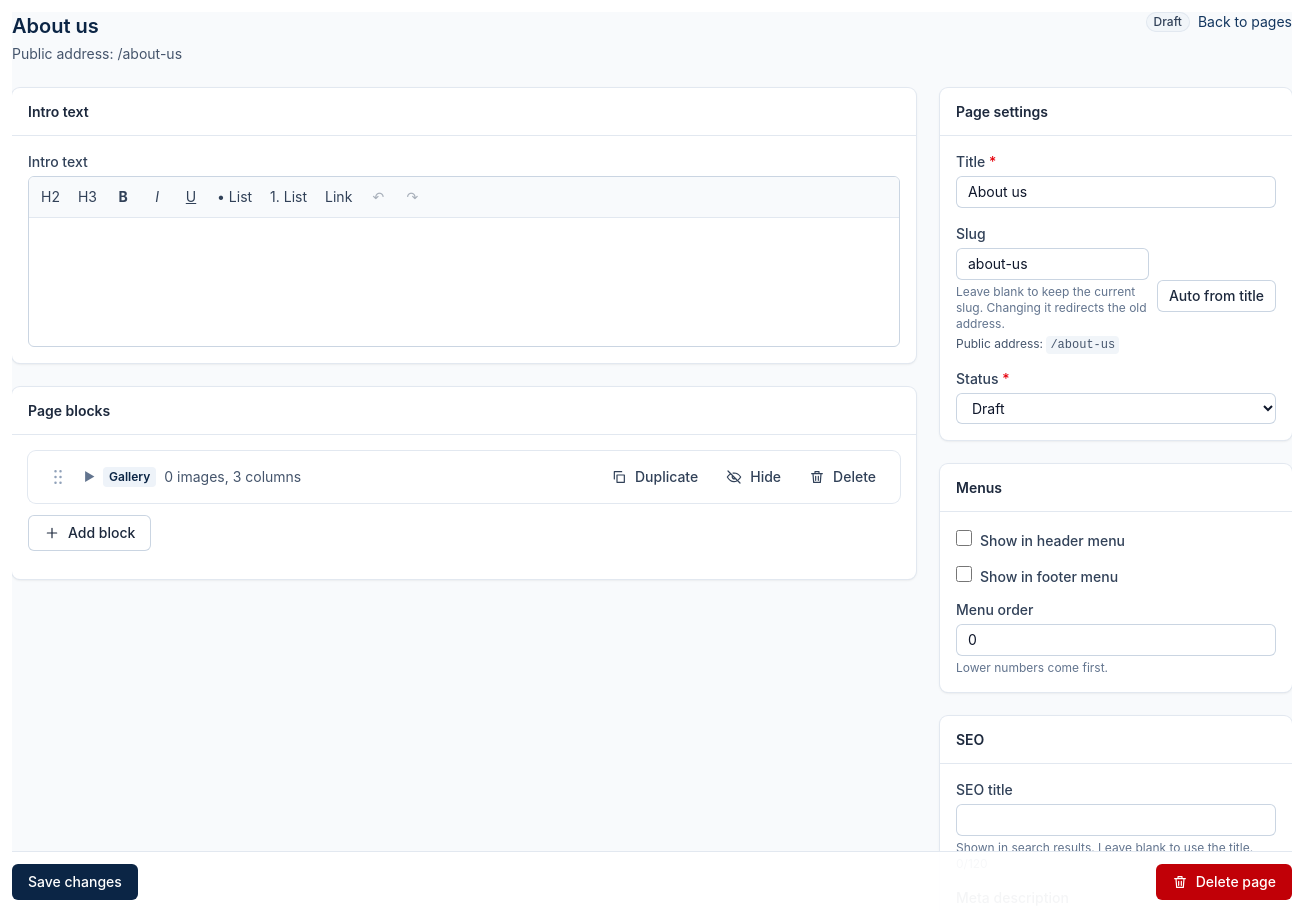
Test case: PageFormPage block builder › blocks saving when a block fails validation and names the problem
This screenshot has width=1304, height=912.
Click the button "Save changes".
click(75, 882)  # box 12,864 -> 138,900
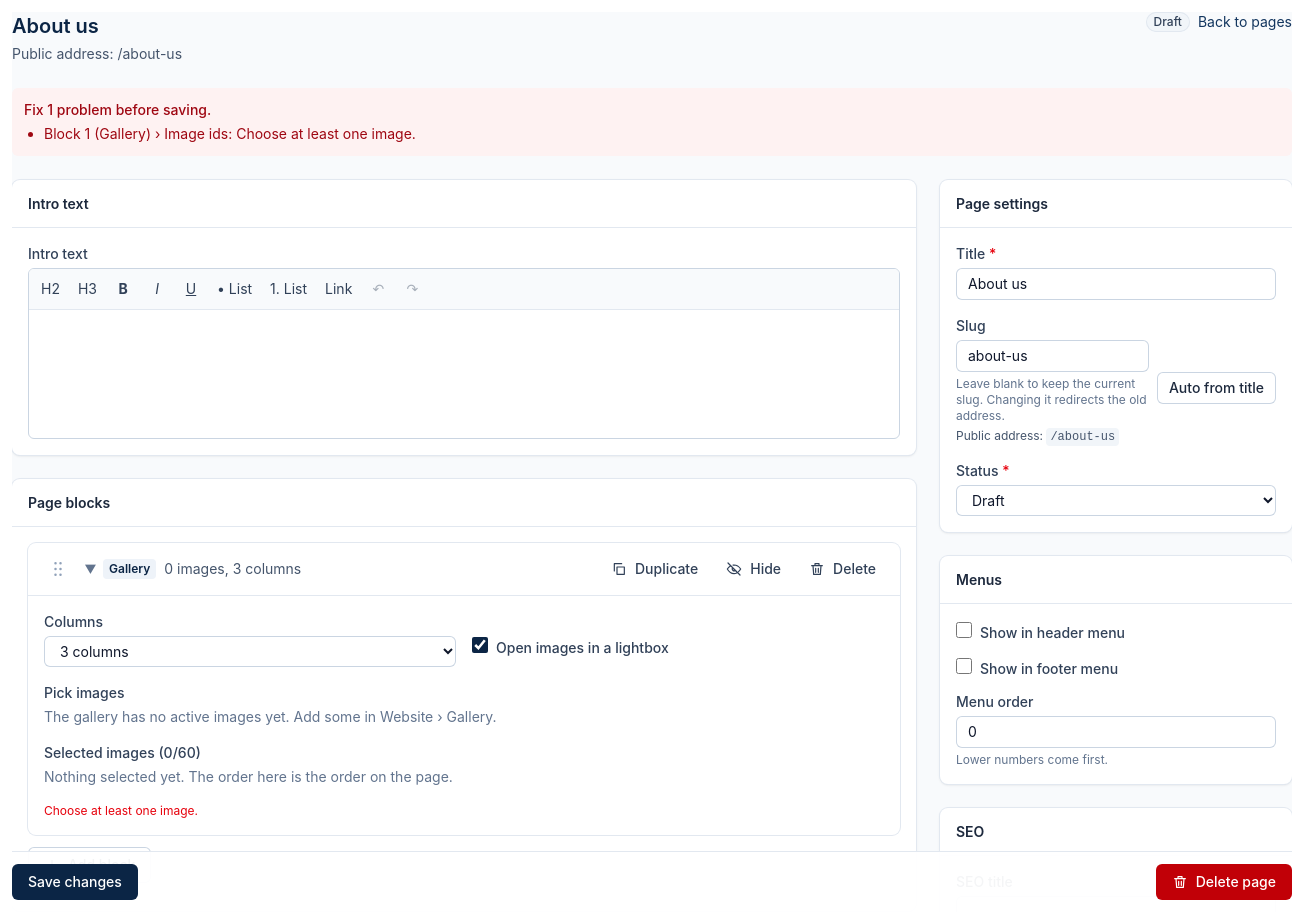
Check: the list item "Block 1 (Gallery) › Image ids: Choose at least one image." is shown, box 44,125 -> 416,142
